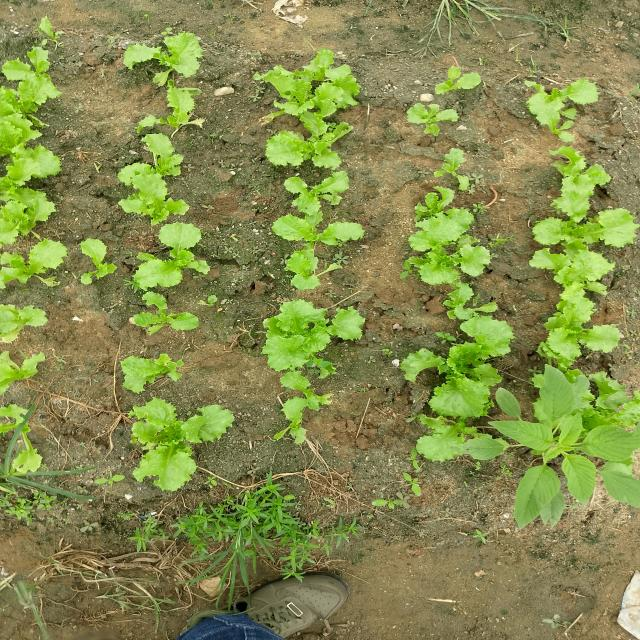Lettuce: (92, 383, 220, 500), (529, 272, 623, 361), (248, 353, 334, 446), (403, 340, 516, 410), (258, 41, 364, 112), (396, 412, 514, 472), (522, 208, 640, 267), (270, 187, 372, 251), (143, 78, 225, 145), (522, 72, 603, 139), (4, 100, 66, 182), (549, 151, 617, 214), (412, 200, 488, 254), (120, 174, 196, 227), (1, 236, 70, 292), (293, 302, 372, 350), (139, 28, 209, 81), (0, 38, 56, 104), (1, 188, 61, 246), (455, 314, 519, 366), (275, 247, 334, 300), (294, 117, 357, 162), (130, 304, 205, 341), (0, 347, 49, 400), (151, 222, 207, 266), (0, 300, 52, 347), (406, 98, 462, 141), (74, 237, 120, 286), (432, 63, 486, 99)
